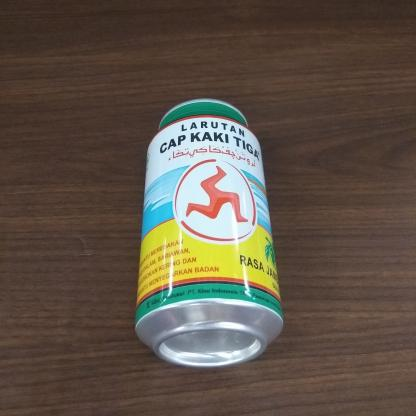mouse: (132, 93, 283, 374)
